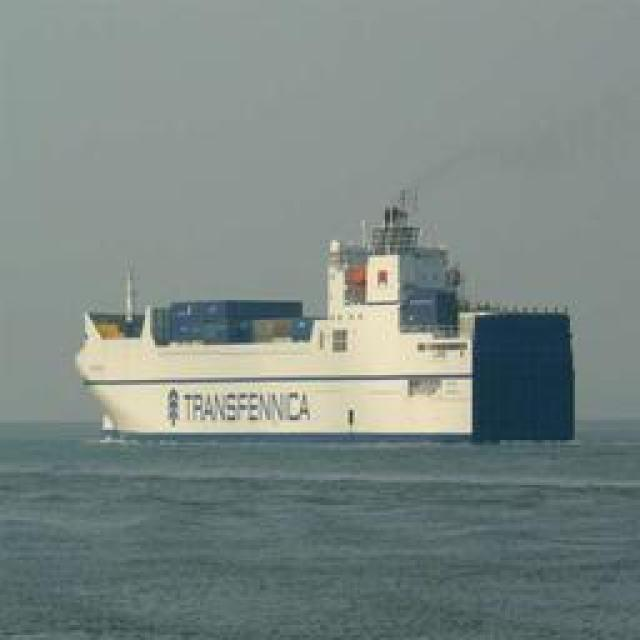CIV_Ship: (86, 184, 472, 438)
